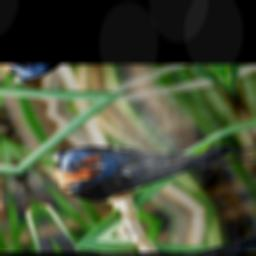Swallow: (41, 99, 256, 215)
